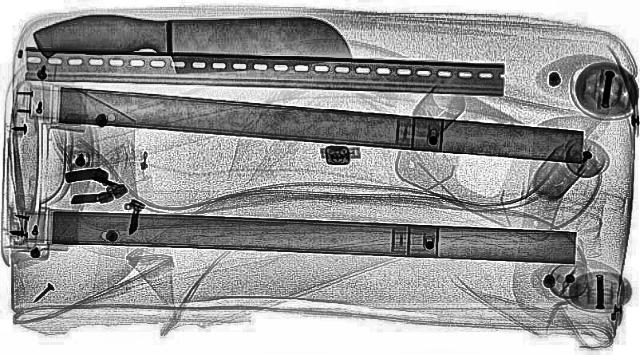Knife: (30, 12, 354, 74)
